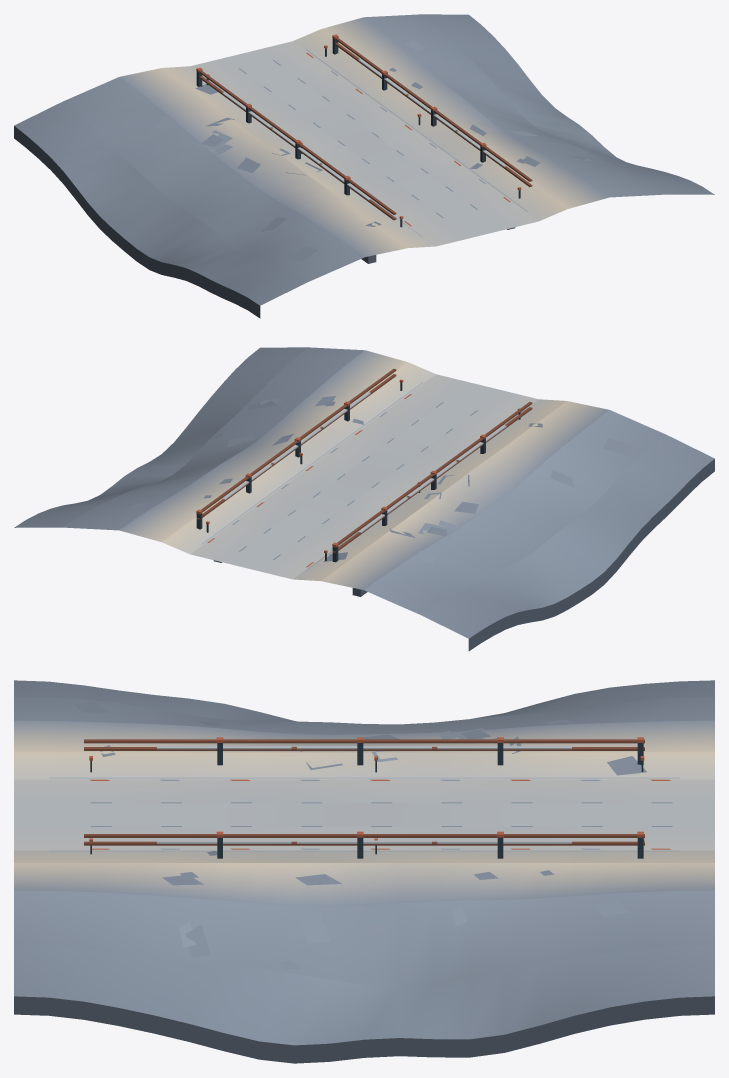
The model's file is 04-bridge.glb.
3 views of the same model, one above another, from view 1: azimuth 30°, elevation 25°; view 2: azimuth 150°, elevation 25°; view 3: azimuth 270°, elevation 25° (orthographic). The views are drawn at different scales.
Visible parts, largest first — view 1: bridge; view 2: bridge; view 3: bridge.
Part boxes in pixels (x1,y1,x2,y2): bridge: (14,14,714,318); bridge: (14,347,714,651); bridge: (14,680,714,1063).
Bounding box in the file's own units: 32 × 5.65 × 30.
